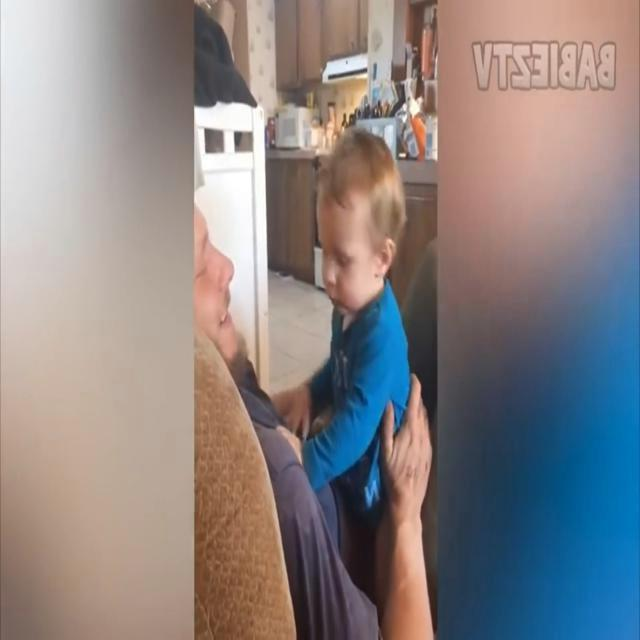child: (298, 124, 412, 507)
